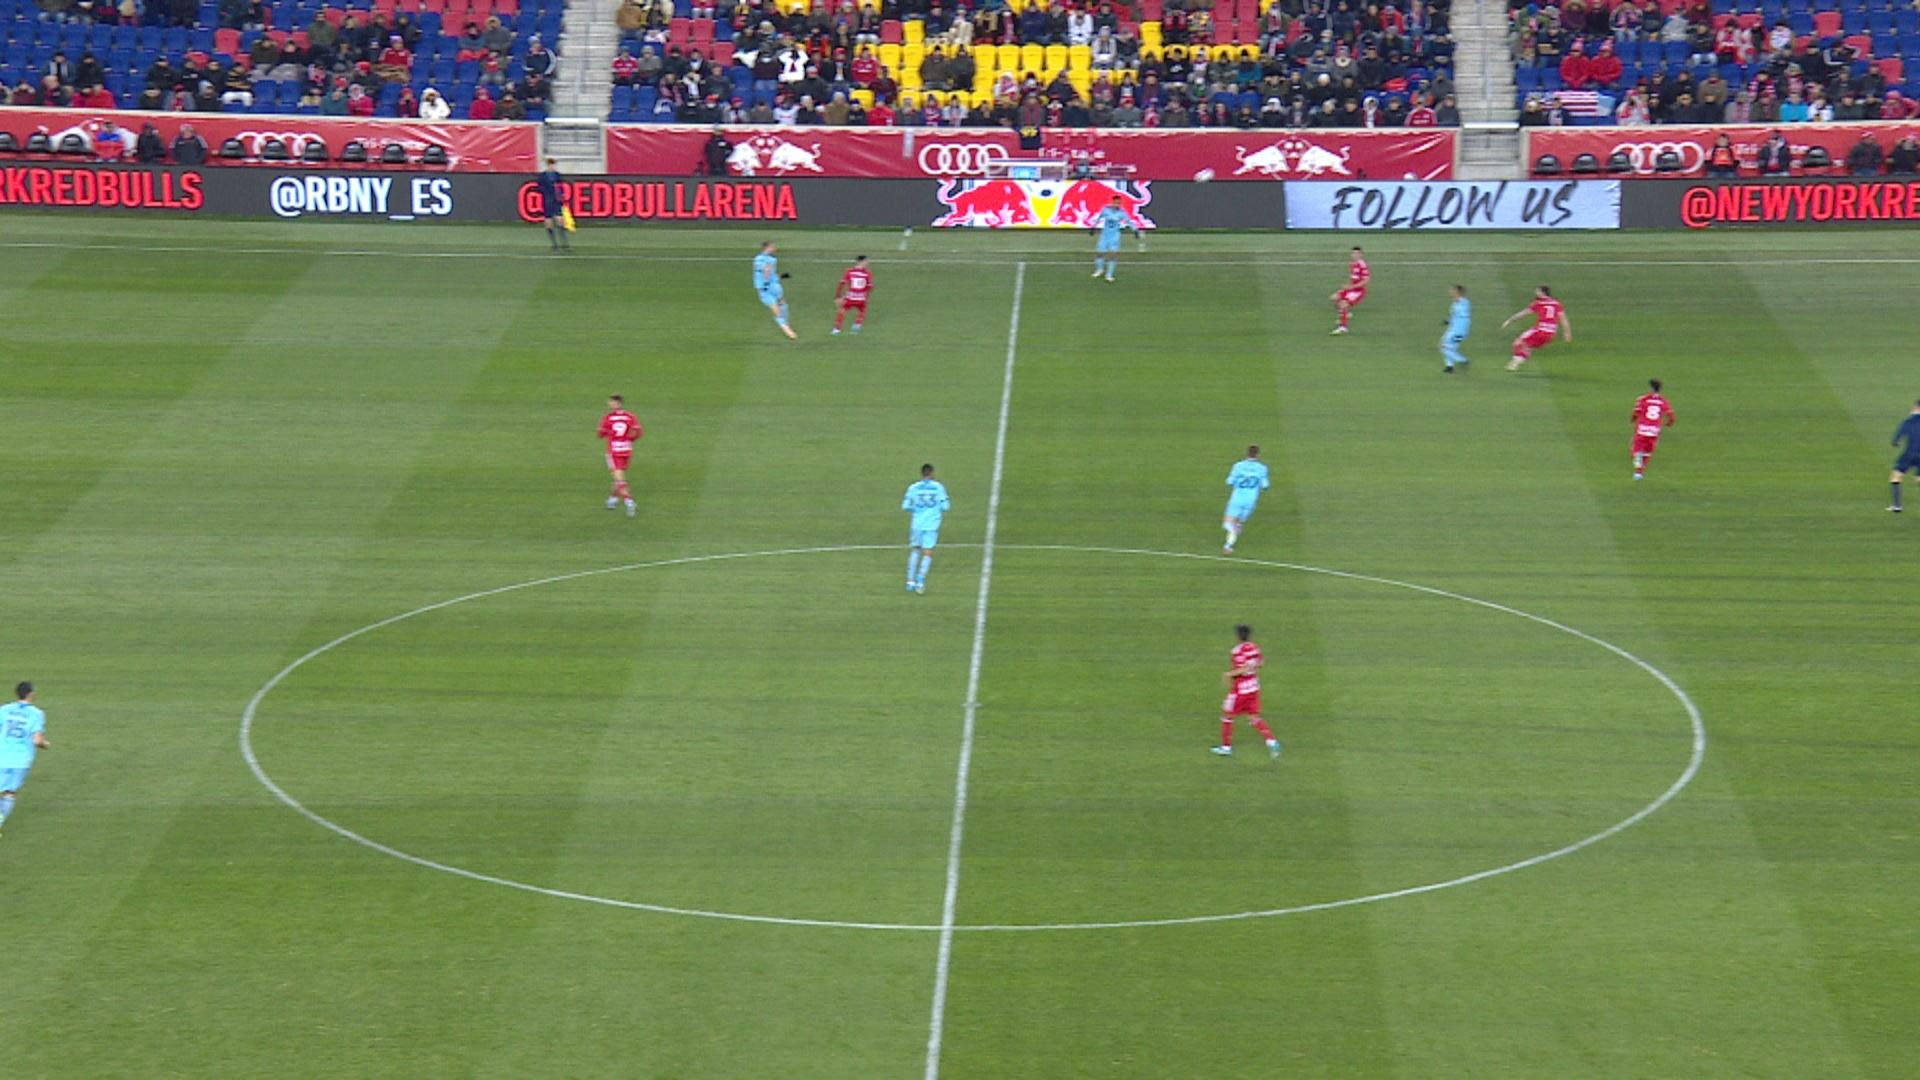football: (1193, 171, 1213, 183)
